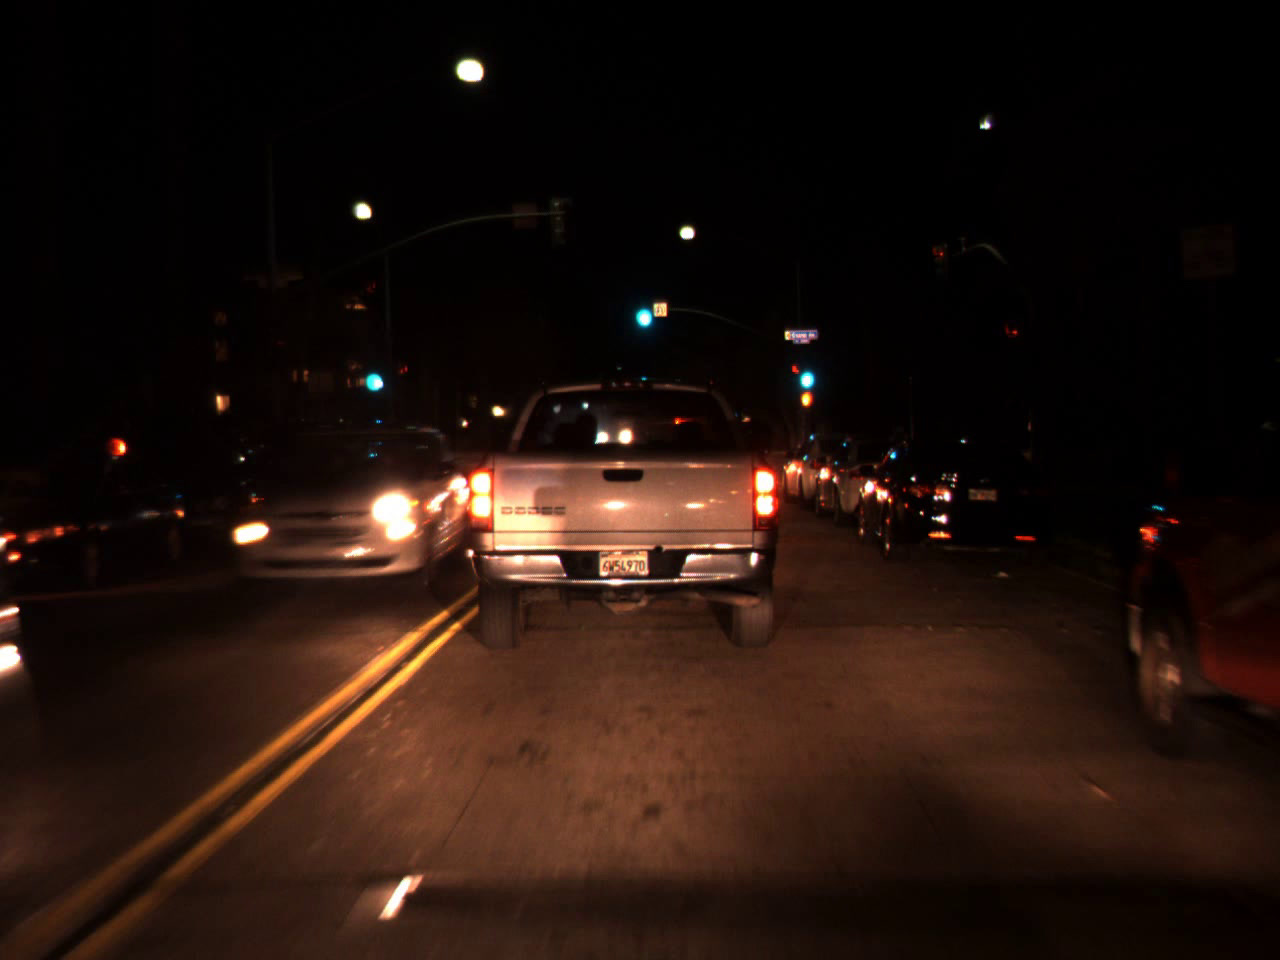go: (630, 286, 655, 334), (360, 352, 385, 397), (796, 350, 815, 395)
